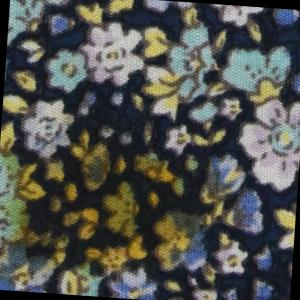Oil Stain: (1, 106, 255, 298)
